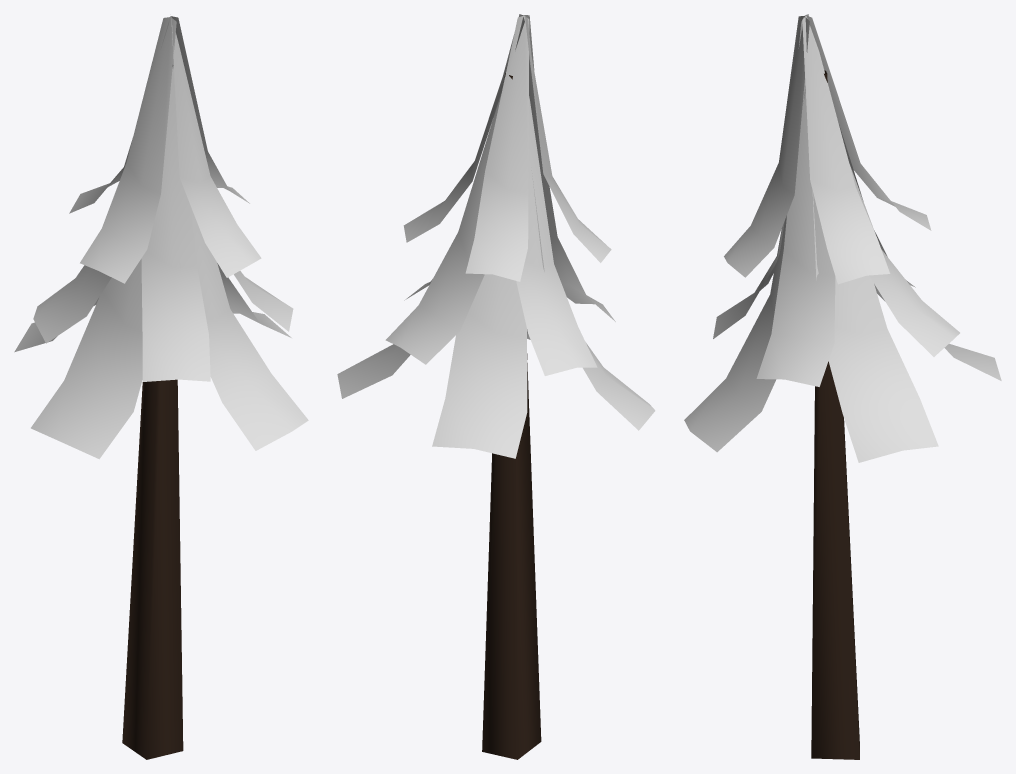
Rendered from LoveDeath_Pine_Art.fbx.
3 views of the same model, side by side, from view 1: azimuth 30°, elevation 25°; view 2: azimuth 150°, elevation 25°; view 3: azimuth 270°, elevation 25° (orthographic). The views are drawn at different scales.
Parts seen in each view (by area): view 1: LoveDeath_Pine_Art; view 2: LoveDeath_Pine_Art; view 3: LoveDeath_Pine_Art.
Part boxes in pixels (x1,y1,x2,y2): LoveDeath_Pine_Art: [14, 16, 308, 759]; LoveDeath_Pine_Art: [337, 14, 655, 759]; LoveDeath_Pine_Art: [684, 14, 1001, 759].
Size of the model in its own units: 352 by 898 by 351.
